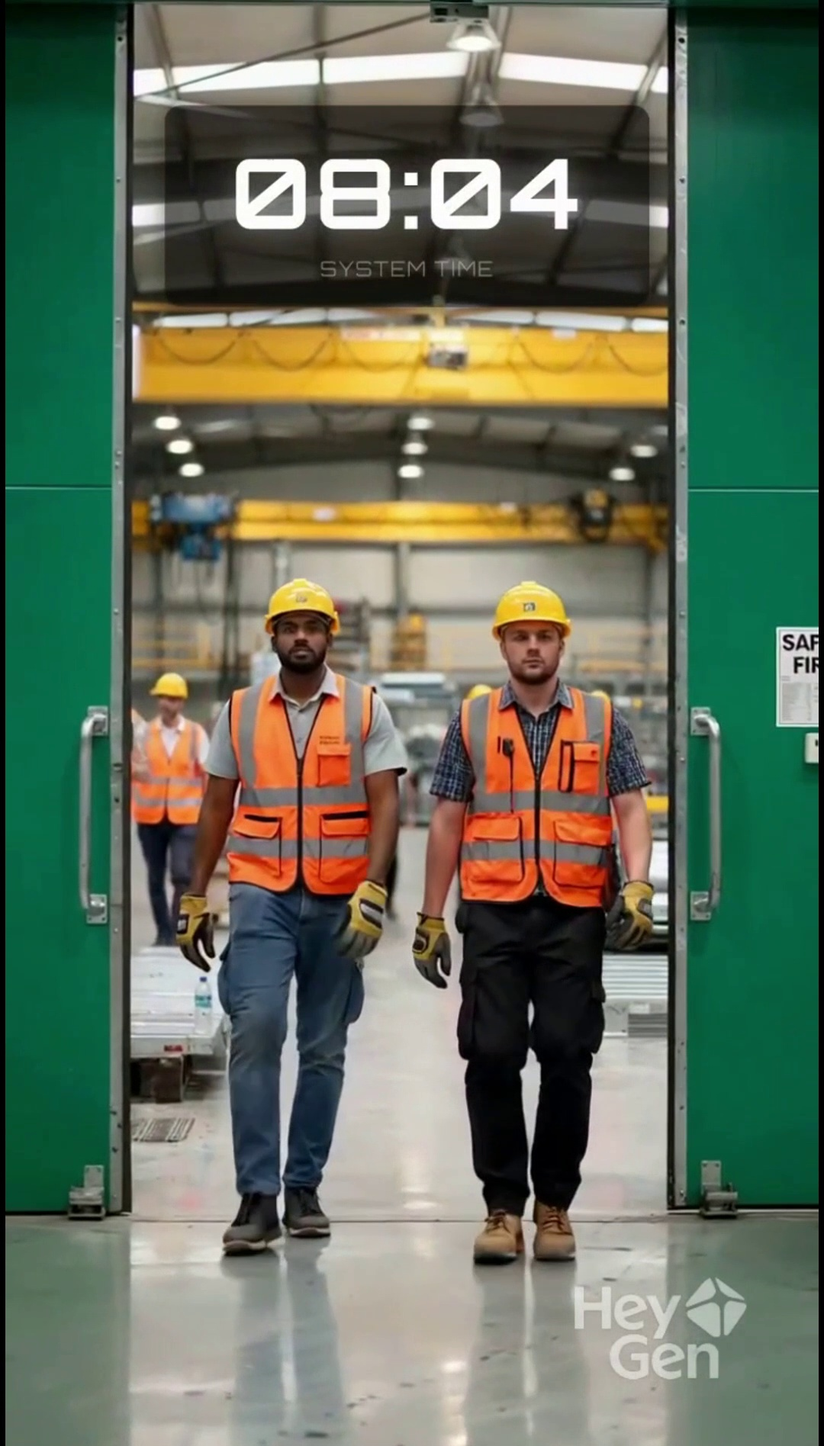Amir: (475, 580, 613, 707)
Sami: (245, 578, 373, 694)
porte_verte: (3, 0, 824, 1210)
temp: (438, 556, 644, 1270), (209, 547, 416, 1249), (181, 105, 649, 304)
